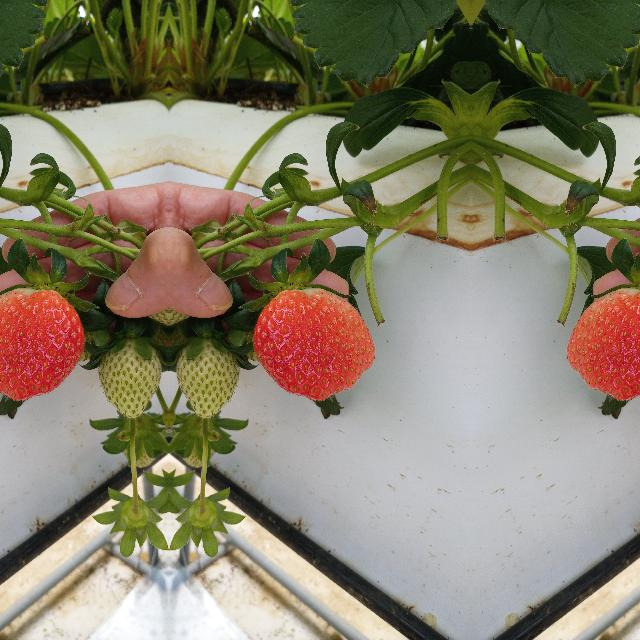Health_100: (252, 288, 374, 402), (0, 287, 84, 402), (566, 287, 640, 402)
Health_25: (175, 320, 239, 428), (97, 320, 161, 428)
